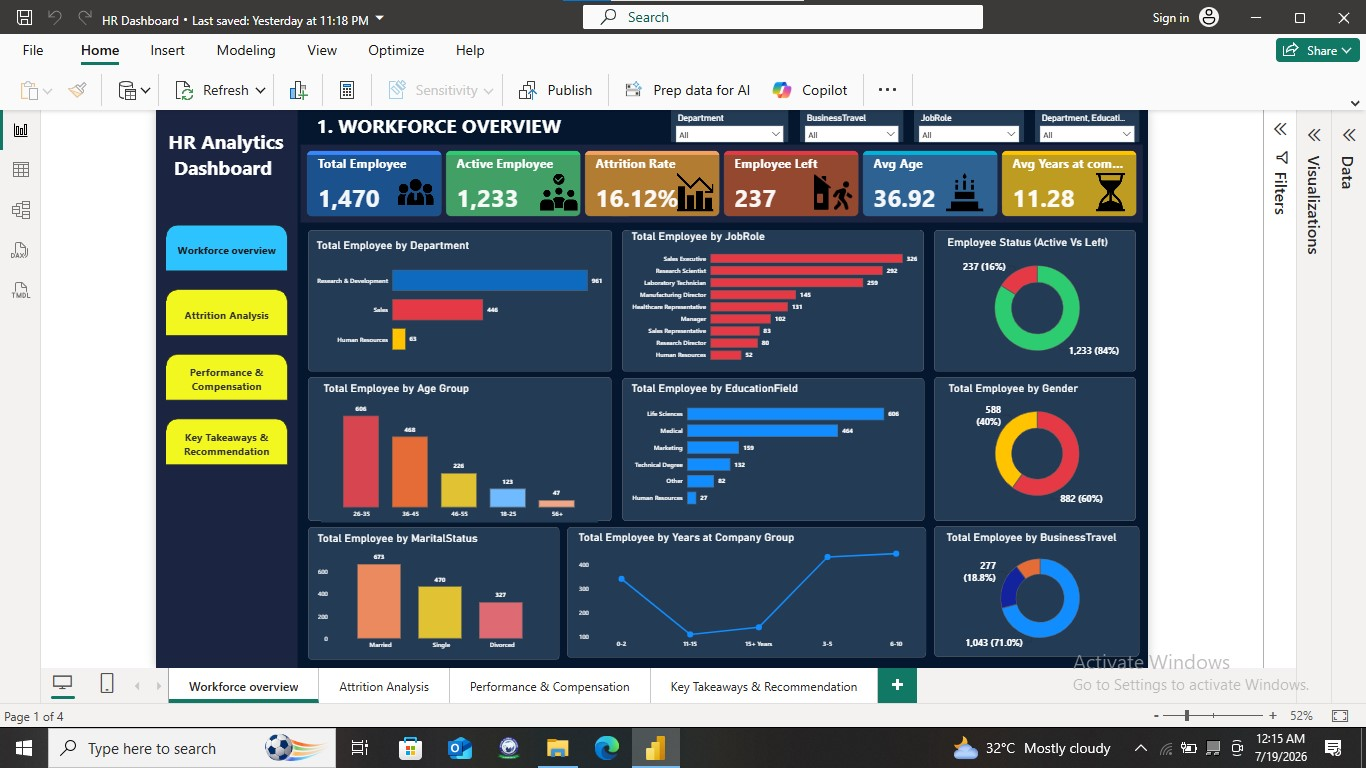

This screenshot's page, from the dashboard's own definition file:
{"tool":"powerbi","page":{"name":"Workforce overview","canvas":[1920,1080],"ordinal":0},"visuals":[{"type":"shape","box":[293.9,806.6,487,257.4],"z":0},{"type":"shape","box":[795.9,806.6,695.1,253.1],"z":1000},{"type":"shape","box":[293.4,231.7,588.9,274.3],"z":2000},{"type":"shape","box":[0,0,274.3,1080],"z":3000},{"type":"textbox","box":[19.1,31.9,255.1,127.6],"z":4000},{"type":"cardVisual","fields":{"Data":["HR-Employee-Attrition.Total Employee","HR-Employee-Attrition.Active Employee","HR-Employee-Attrition.Attrition Rate","HR-Employee-Attrition.Employee Left","HR-Employee-Attrition.Avg Age","HR-Employee-Attrition.Average Years at company"]},"box":[274.3,61.7,1645.5,161.6],"z":5000},{"type":"shape","box":[901,518.1,585.7,276.7],"z":6000},{"type":"barChart","fields":{"Category":["HR-Employee-Attrition.Department"],"Y":["HR-Employee-Attrition.Total Employee"]},"box":[306.1,248.7,563.4,244.5],"z":7000},{"type":"shape","box":[901.4,231.7,584.6,274.3],"z":8000},{"type":"barChart","fields":{"Category":["HR-Employee-Attrition.JobRole"],"Y":["HR-Employee-Attrition.Total Employee"]},"box":[916.3,231.7,563.4,265.7],"z":9000},{"type":"shape","box":[1505.2,231.7,391.2,274.3],"z":10000},{"type":"shape","box":[1505.2,516.6,391.2,278.5],"z":11000},{"type":"donutChart","fields":{"Category":["HR-Employee-Attrition.Gender"],"Y":["HR-Employee-Attrition.Total Employee"]},"box":[1528.6,527.2,352.9,253],"z":12000},{"type":"donutChart","title":"Employee Status (Active Vs Left)","fields":{"Category":["HR-Employee-Attrition.Attrition"],"Y":["HR-Employee-Attrition.Total Employee"]},"box":[1526.5,244.5,357.2,255.1],"z":13000},{"type":"shape","box":[1505.2,805.7,397.6,253],"z":14000},{"type":"donutChart","fields":{"Y":["HR-Employee-Attrition.Total Employee"],"Category":["HR-Employee-Attrition.BusinessTravel"]},"box":[1524.3,814.3,372,236],"z":15000},{"type":"shape","box":[293.9,517,587.8,278.9],"z":16000},{"type":"columnChart","fields":{"Category":["HR-Employee-Attrition.MaritalStatus"],"Y":["HR-Employee-Attrition.Total Employee"]},"box":[308.3,816.4,459.2,236],"z":17000},{"type":"clusteredColumnChart","fields":{"Category":["HR-Employee-Attrition.Age Group"],"Y":["HR-Employee-Attrition.Total Employee"]},"box":[319.6,525.6,536.3,272.4],"z":18000},{"type":"lineChart","fields":{"Category":["HR-Employee-Attrition.Years at Company Group"],"Y":["HR-Employee-Attrition.Total Employee"]},"box":[813.1,815.2,677.9,236],"z":19000},{"type":"clusteredBarChart","fields":{"Y":["HR-Employee-Attrition.Total Employee"],"Category":["HR-Employee-Attrition.EducationField"]},"box":[916,525.6,557.8,255.3],"z":20000},{"type":"image","box":[465.6,121.2,72.3,74.4],"z":21000},{"type":"image","box":[1273.5,121.2,74.4,74.4],"z":22000},{"type":"image","box":[1007.7,121.2,70.2,74.4],"z":23000},{"type":"image","box":[742,121.2,76.5,74.4],"z":24000},{"type":"image","box":[1528.6,121.2,72.3,74.4],"z":25000},{"type":"image","box":[1811.3,121.2,72.3,74.4],"z":26000},{"type":"textbox","box":[306.1,0,489,61.7],"z":27000},{"type":"slicer","fields":{"Values":["HR-Employee-Attrition.Department"]},"box":[997.1,0,227.5,61.7],"z":28000},{"type":"slicer","fields":{"Values":["HR-Employee-Attrition.BusinessTravel"]},"box":[1245.8,0,199.8,61.7],"z":29000},{"type":"slicer","fields":{"Values":["HR-Employee-Attrition.JobRole"]},"box":[1466.9,0,212.6,61.7],"z":30000},{"type":"slicer","fields":{"Values":["HR-Employee-Attrition.Department","HR-Employee-Attrition.Education level"]},"box":[1700.8,0,202,61.7],"z":31000},{"type":"pageNavigator","box":[19.1,223.2,236,467.7],"z":32000}]}

Visuals, with their boxes on the page's 1920x1080 design canvas (x1, y1, x2, y2). These are canvas units, not pixel positions in the 1366x768 screenshot, which may show the page scaled, cropped or inside an application window:
shape: bbox=(294, 807, 781, 1064)
shape: bbox=(796, 807, 1491, 1060)
shape: bbox=(293, 232, 882, 506)
shape: bbox=(0, 0, 274, 1080)
textbox: bbox=(19, 32, 274, 160)
cardVisual - HR-Employee-Attrition.Total Employee x HR-Employee-Attrition.Active Employee: bbox=(274, 62, 1920, 223)
shape: bbox=(901, 518, 1487, 795)
barChart - HR-Employee-Attrition.Department x HR-Employee-Attrition.Total Employee: bbox=(306, 249, 870, 493)
shape: bbox=(901, 232, 1486, 506)
barChart - HR-Employee-Attrition.JobRole x HR-Employee-Attrition.Total Employee: bbox=(916, 232, 1480, 497)
shape: bbox=(1505, 232, 1896, 506)
shape: bbox=(1505, 517, 1896, 795)
donutChart - HR-Employee-Attrition.Gender x HR-Employee-Attrition.Total Employee: bbox=(1529, 527, 1882, 780)
"Employee Status (Active Vs Left)" donutChart: bbox=(1526, 244, 1884, 500)
shape: bbox=(1505, 806, 1903, 1059)
donutChart - HR-Employee-Attrition.Total Employee x HR-Employee-Attrition.BusinessTravel: bbox=(1524, 814, 1896, 1050)
shape: bbox=(294, 517, 882, 796)
columnChart - HR-Employee-Attrition.MaritalStatus x HR-Employee-Attrition.Total Employee: bbox=(308, 816, 768, 1052)
clusteredColumnChart - HR-Employee-Attrition.Age Group x HR-Employee-Attrition.Total Employee: bbox=(320, 526, 856, 798)
lineChart - HR-Employee-Attrition.Years at Company Group x HR-Employee-Attrition.Total Employee: bbox=(813, 815, 1491, 1051)
clusteredBarChart - HR-Employee-Attrition.Total Employee x HR-Employee-Attrition.EducationField: bbox=(916, 526, 1474, 781)
image: bbox=(466, 121, 538, 196)
image: bbox=(1274, 121, 1348, 196)
image: bbox=(1008, 121, 1078, 196)
image: bbox=(742, 121, 818, 196)
image: bbox=(1529, 121, 1601, 196)
image: bbox=(1811, 121, 1884, 196)
textbox: bbox=(306, 0, 795, 62)
slicer - HR-Employee-Attrition.Department: bbox=(997, 0, 1225, 62)
slicer - HR-Employee-Attrition.BusinessTravel: bbox=(1246, 0, 1446, 62)
slicer - HR-Employee-Attrition.JobRole: bbox=(1467, 0, 1680, 62)
slicer - HR-Employee-Attrition.Department x HR-Employee-Attrition.Education level: bbox=(1701, 0, 1903, 62)
pageNavigator: bbox=(19, 223, 255, 691)
